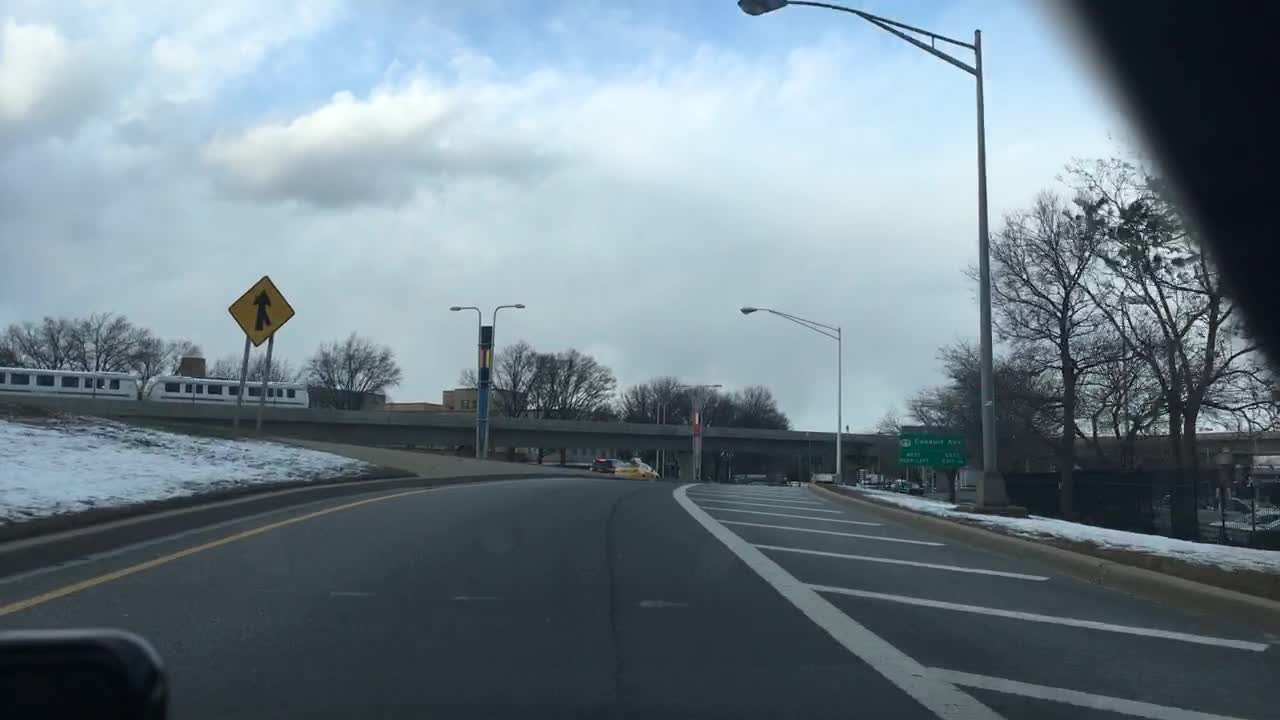car: (589, 455, 638, 477), (887, 480, 924, 494), (635, 460, 661, 479)
traffic sign: (225, 275, 298, 348), (898, 433, 965, 468)
train: (0, 364, 311, 407)
